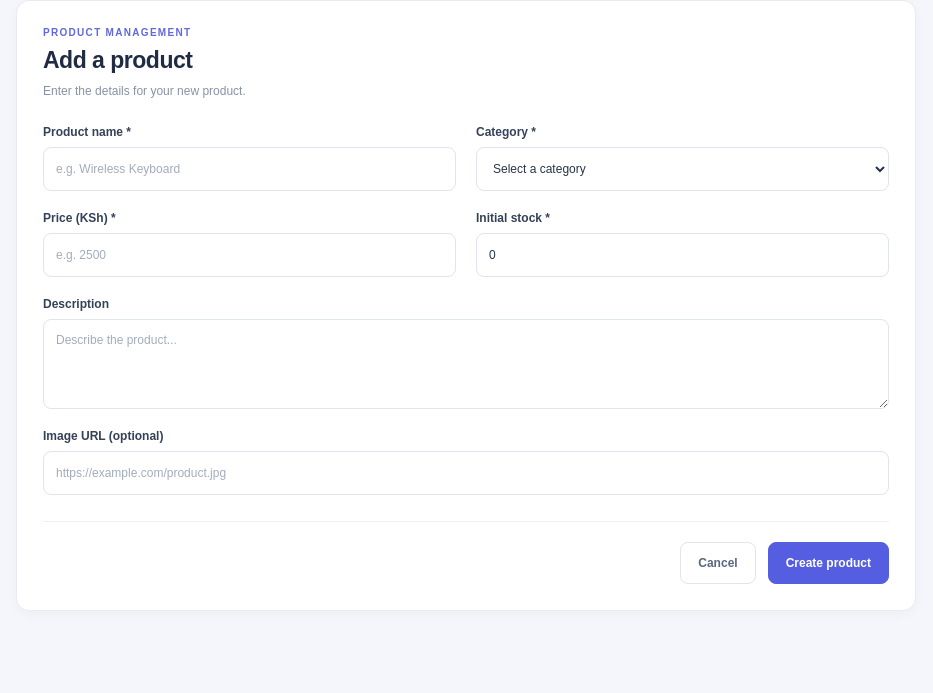
Scenario: ProductForm component › rejects an invalid category
The width and height of the screenshot is (933, 693).
Type "Keyboard" into the field labelled "Product name *" at (250, 169), box [43,147,456,191]
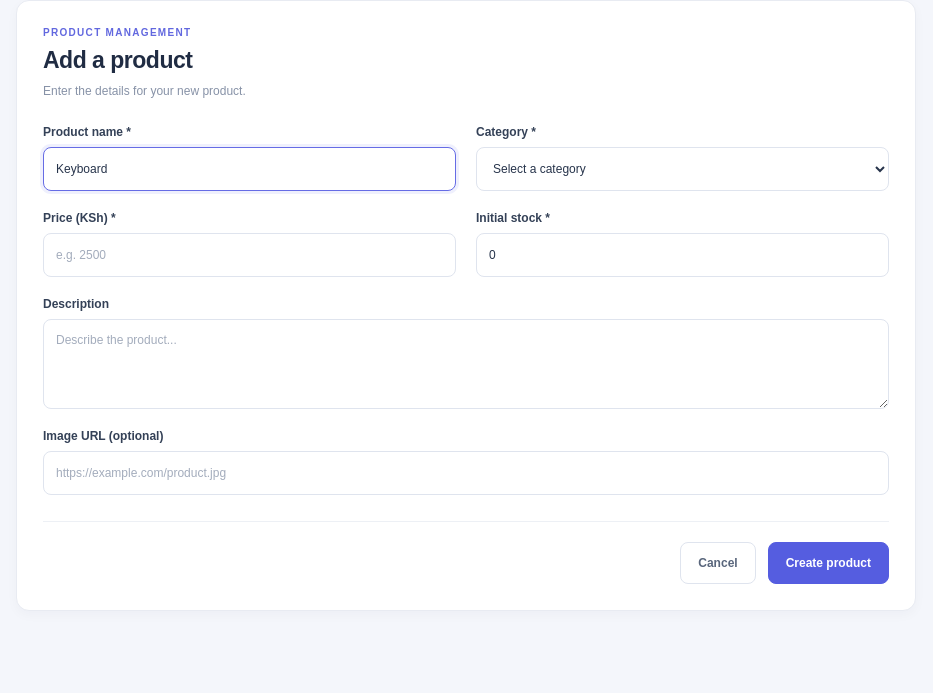
Type "2500" into the number field labelled "Price (KSh) *" at (250, 255), box [43,233,456,277]
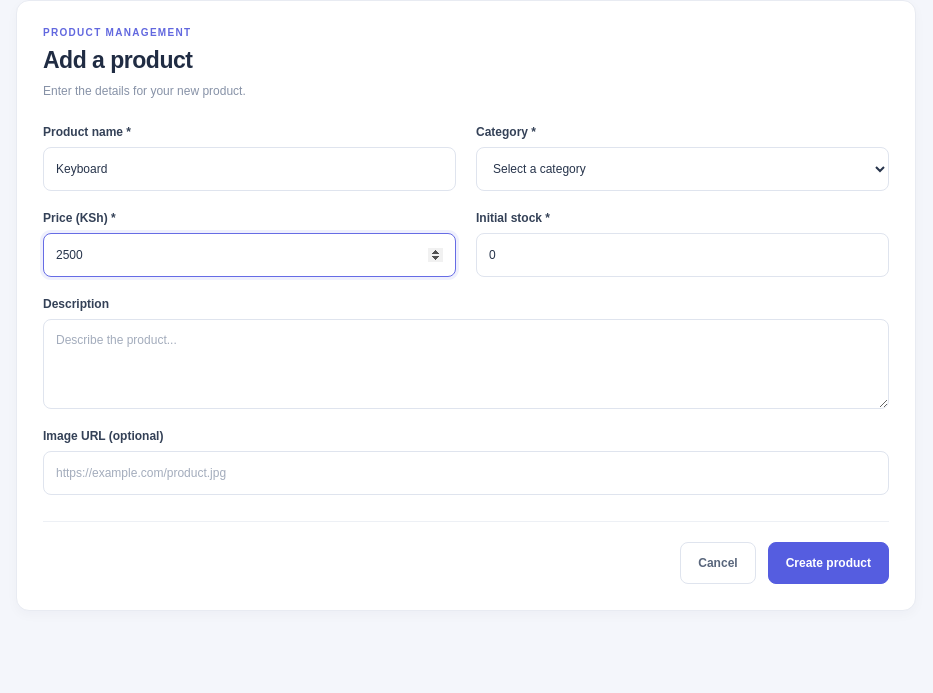
Select "0" in the dropdown labelled "Category *" at (682, 169), box [476,147,889,191]
Submit the form labelled "Product name"
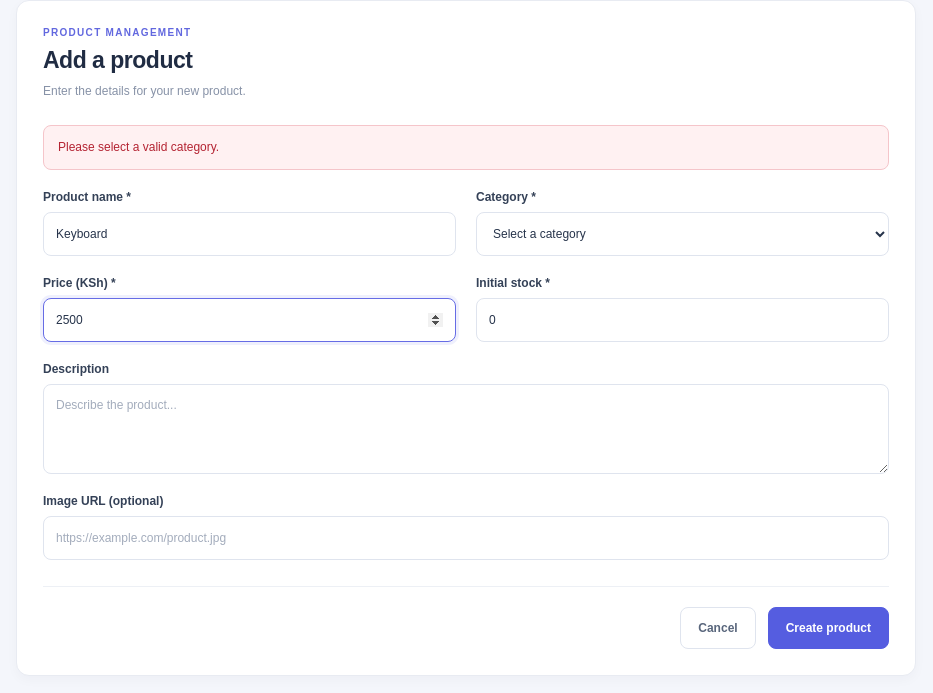
Expected: the message reads "Please select a valid category.", [58,140,219,154]
